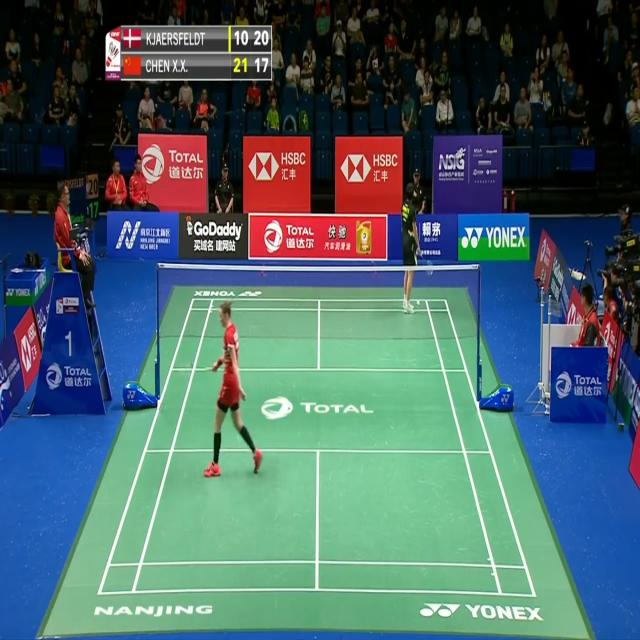Player1: (176, 304, 265, 480)
Player2: (399, 180, 440, 320)
